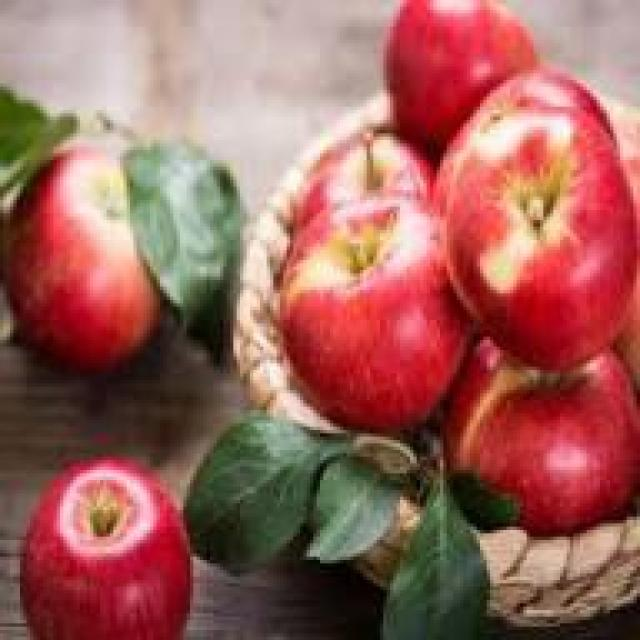apple: (273, 190, 467, 420), (446, 124, 626, 344), (23, 143, 190, 367), (17, 460, 190, 640), (460, 353, 633, 527), (383, 7, 550, 153), (306, 127, 446, 253)
